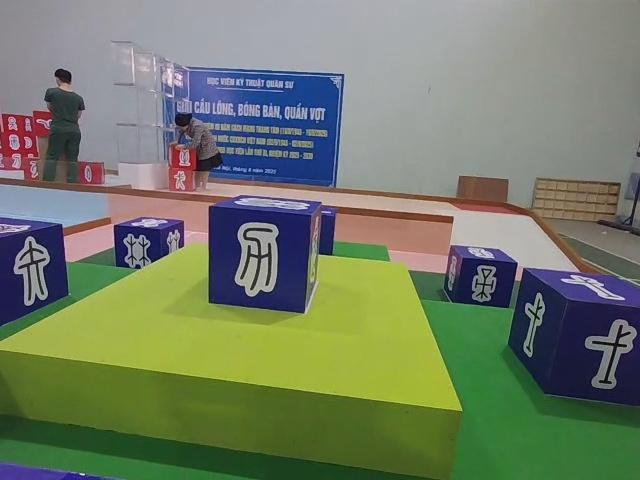R2 Fake Blue: (208, 197, 327, 317), (0, 220, 68, 327)
R2 Real Blue: (508, 269, 638, 410), (445, 245, 521, 310), (113, 219, 185, 272)
